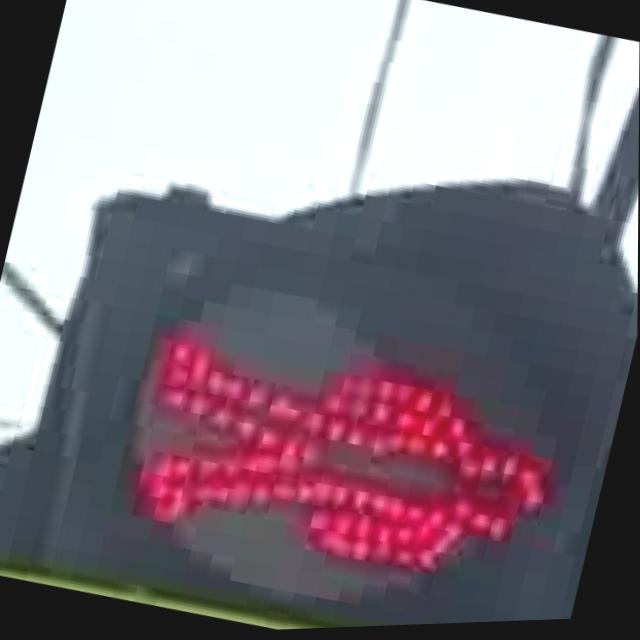red_light: (108, 270, 605, 637)
